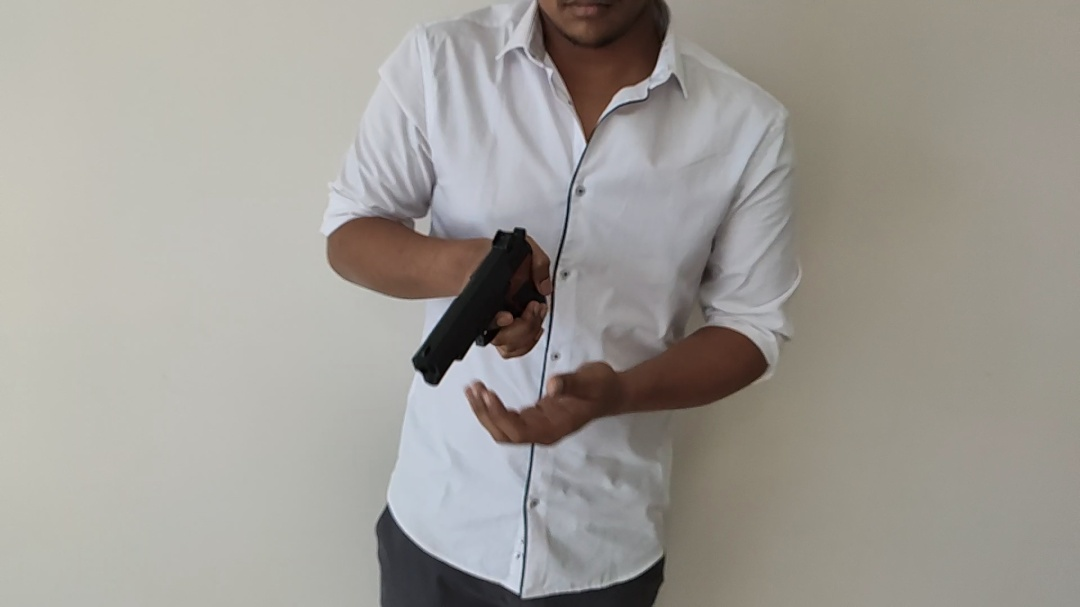gun: (411, 227, 527, 387)
